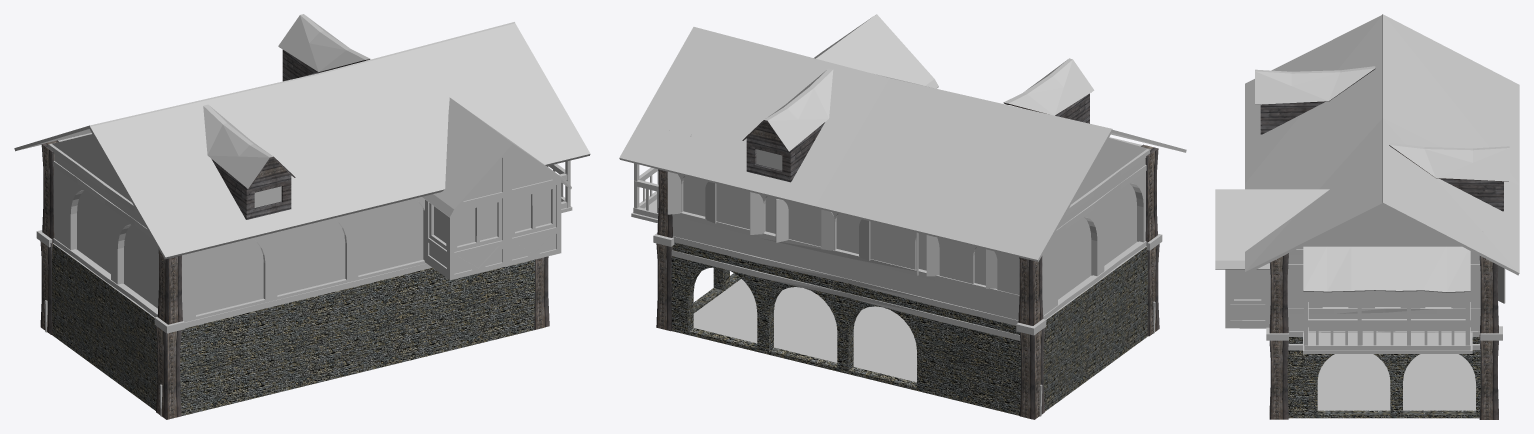
The model's file is tavern3_LOD.dae.
3 views of the same model, side by side, from view 1: azimuth 30°, elevation 25°; view 2: azimuth 150°, elevation 25°; view 3: azimuth 270°, elevation 25° (orthographic). The views are drawn at different scales.
Visible parts, largest first — view 1: house; view 2: house; view 3: house.
Boxes of the visible parts, <box> form: house: <box>14,14,590,419</box>; house: <box>619,14,1186,419</box>; house: <box>1215,14,1519,419</box>.
Bounding box in the file's own units: 26.61 × 14.65 × 17.58.
